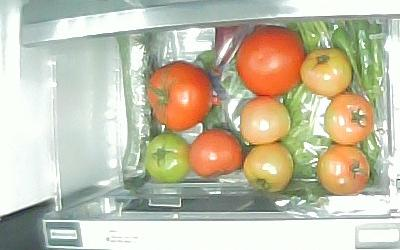tomato: (236, 26, 307, 97), (146, 61, 214, 133), (316, 144, 372, 195), (323, 93, 375, 146), (242, 143, 295, 194), (189, 130, 243, 180), (299, 47, 353, 97), (239, 98, 292, 144), (145, 133, 191, 183)
